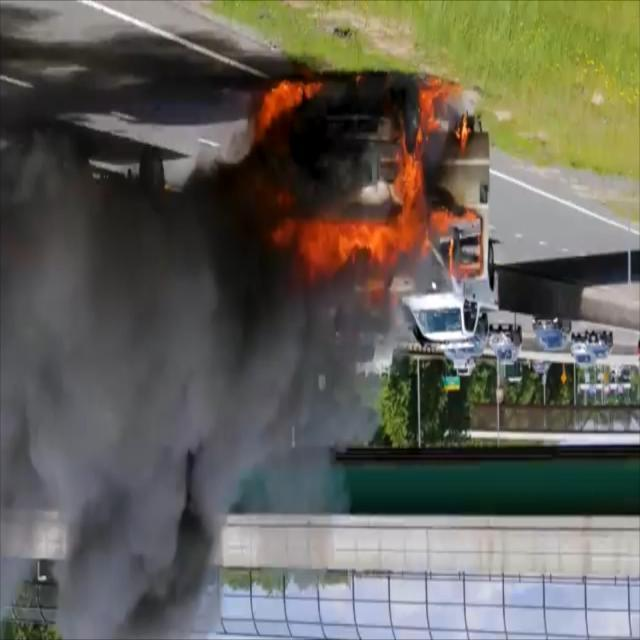fire: (240, 79, 482, 296)
